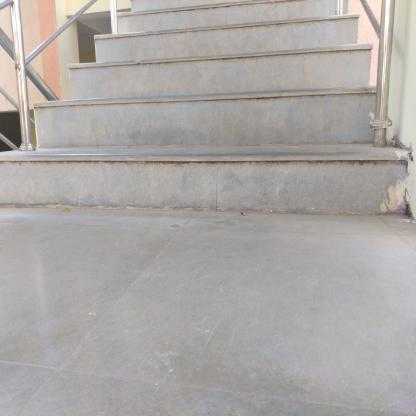stairs: (123, 20, 364, 227)
